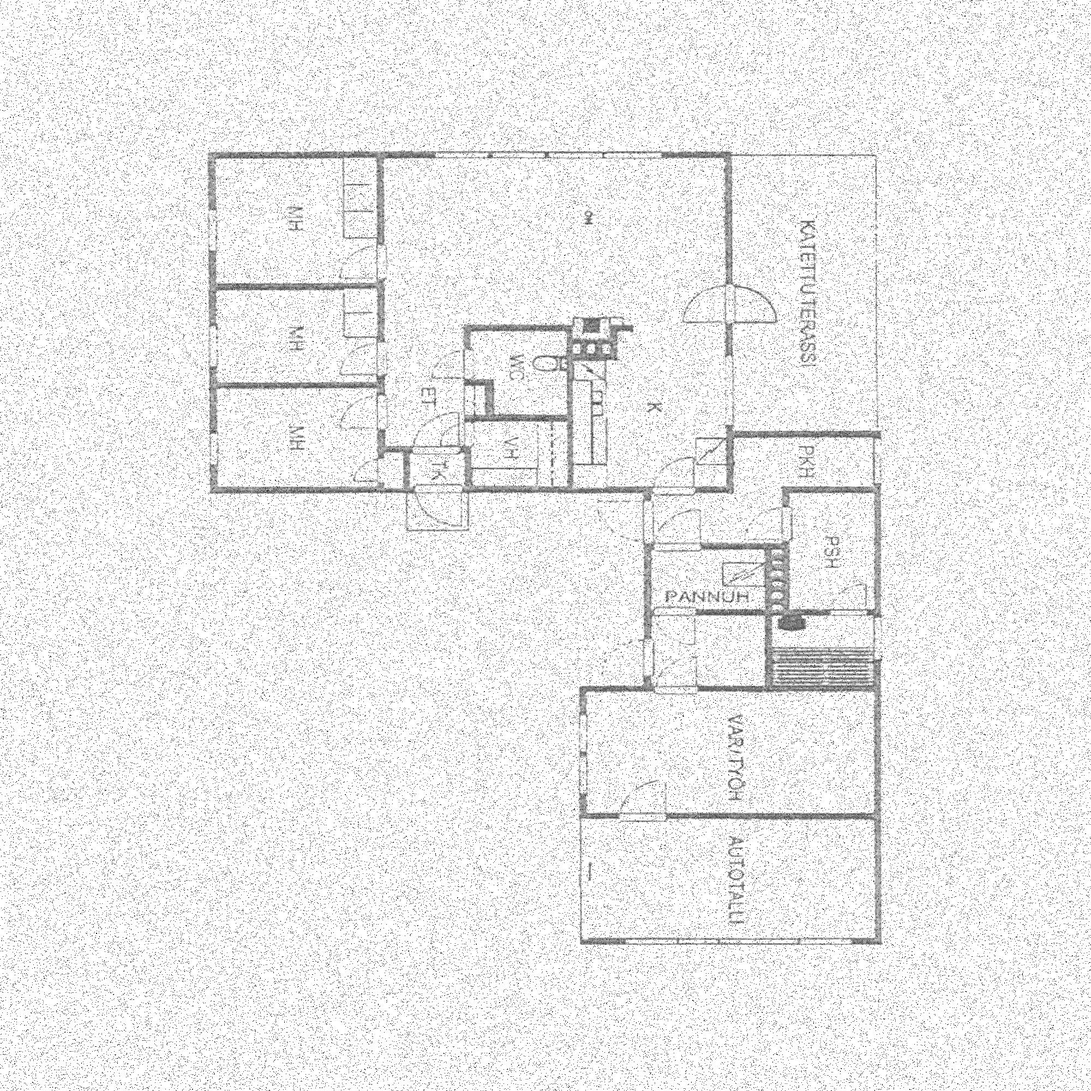wall: (874, 431, 882, 945), (209, 151, 734, 158), (209, 486, 651, 493), (209, 151, 217, 493), (377, 151, 384, 493), (726, 151, 734, 438), (579, 686, 587, 944), (579, 938, 881, 944), (579, 813, 881, 819), (765, 543, 789, 615), (644, 487, 651, 693), (644, 609, 882, 615), (651, 686, 882, 692), (725, 431, 882, 438), (567, 339, 618, 360), (209, 284, 385, 290), (209, 382, 385, 388), (567, 325, 573, 493), (643, 543, 789, 549), (781, 486, 882, 493), (464, 325, 574, 331), (464, 415, 574, 421), (464, 415, 472, 493), (765, 615, 773, 692), (651, 486, 733, 493), (377, 446, 472, 452), (464, 325, 472, 385), (781, 487, 789, 543), (579, 686, 651, 692), (726, 438, 733, 493), (486, 379, 494, 421), (403, 446, 410, 493), (610, 325, 618, 360), (464, 379, 494, 385), (610, 325, 633, 331)
